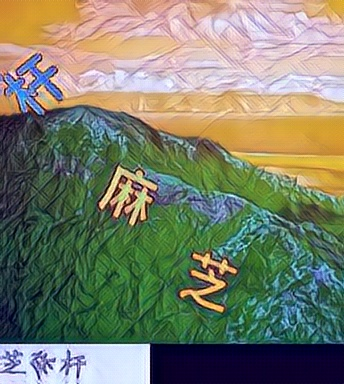B8CB: (2, 52, 65, 118)
C2E9: (97, 159, 160, 225)
D6A5: (175, 247, 238, 313)
